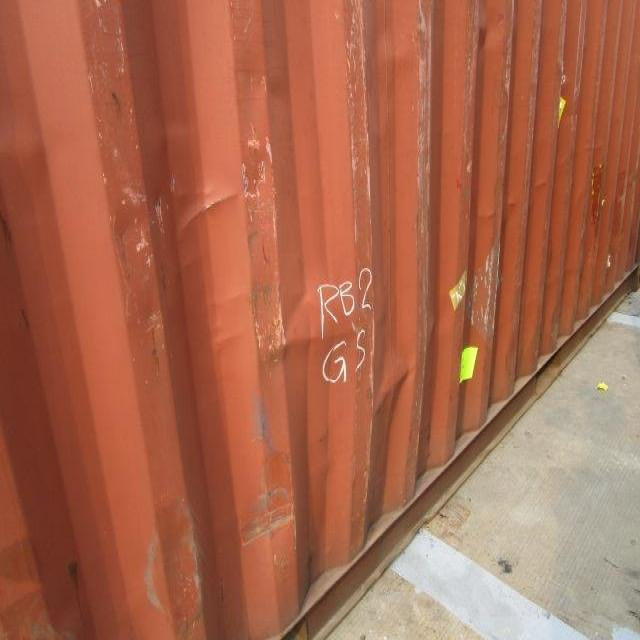Dent: (148, 225, 473, 512)
